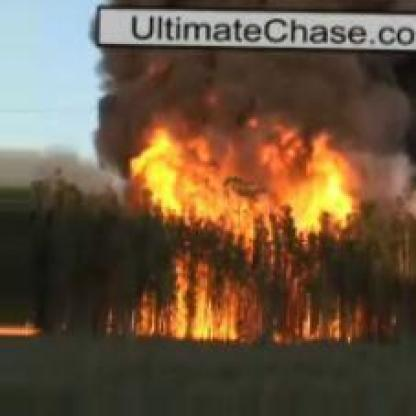fire: (128, 118, 362, 349), (0, 314, 59, 340)
smoke: (128, 48, 391, 114)
